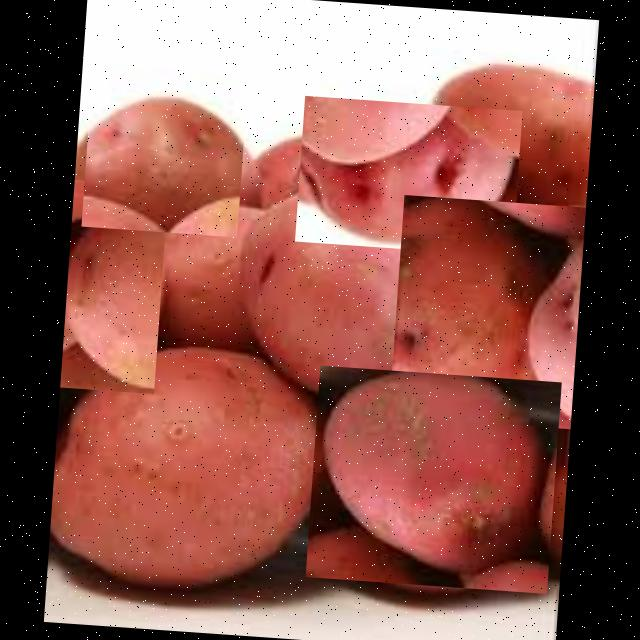Defected potato: (45, 330, 350, 596), (304, 364, 560, 592), (218, 178, 456, 400), (388, 194, 584, 428), (294, 94, 522, 255), (402, 61, 590, 212), (80, 67, 247, 236), (59, 178, 168, 392)
